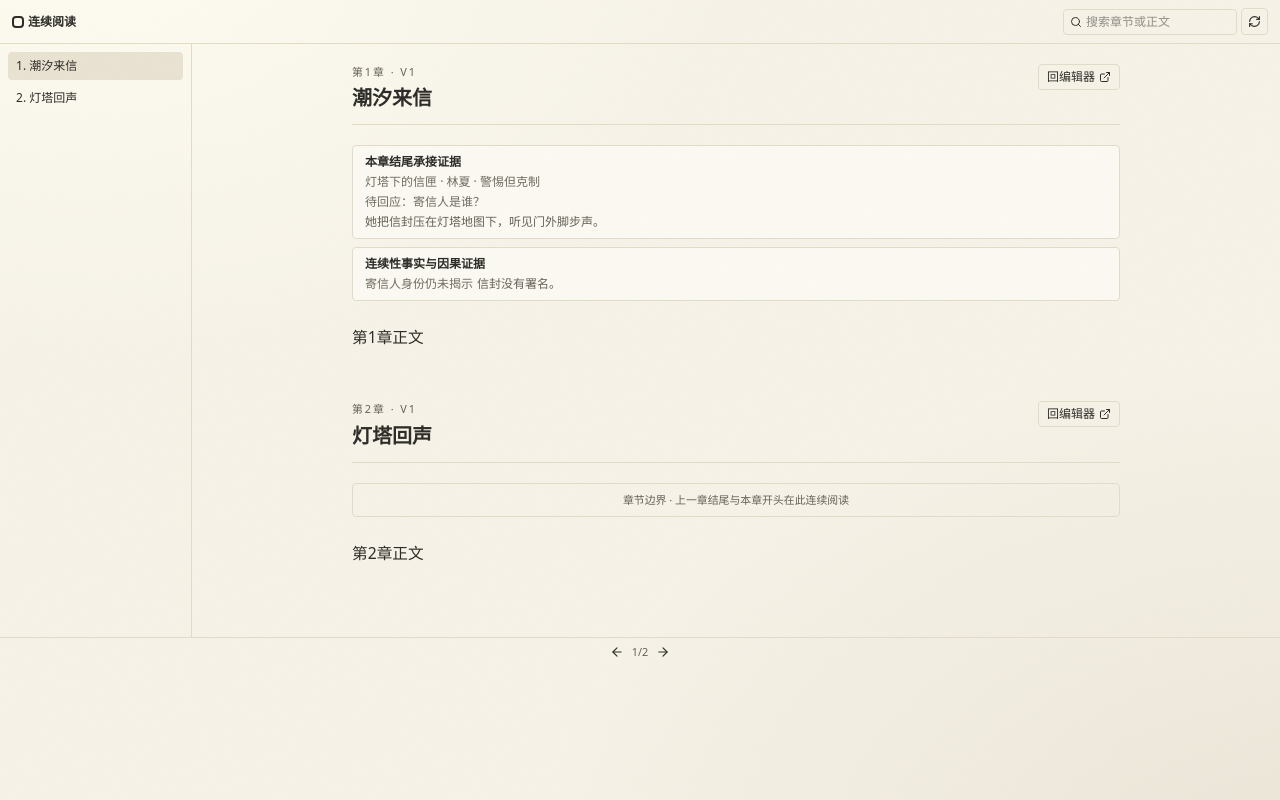
Test case: ContinuousReader › loads finalized chapters as one readable stream and preserves chapter navigation
Click the button named "下一章": point(663, 652) left=656, top=645, right=670, bottom=659
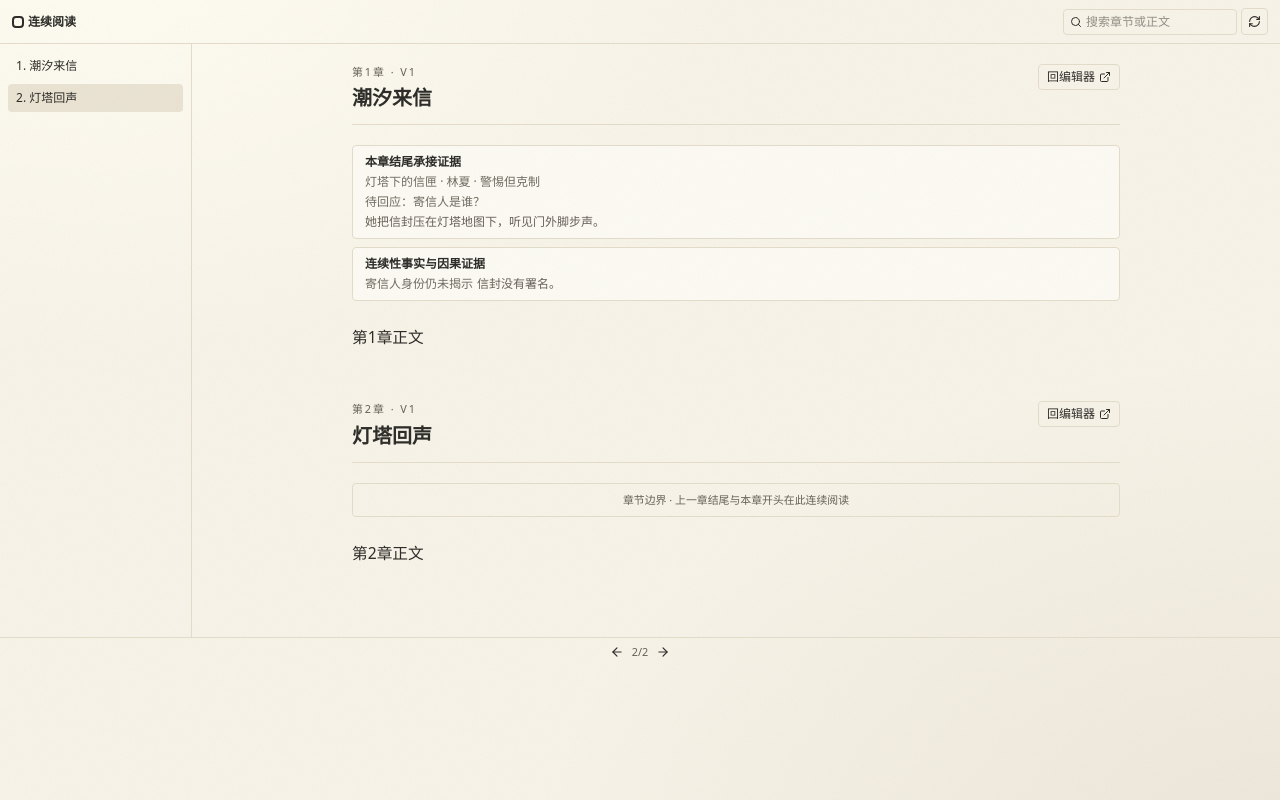
Expected: the text "2/2" is shown, left=632, top=644, right=648, bottom=660
